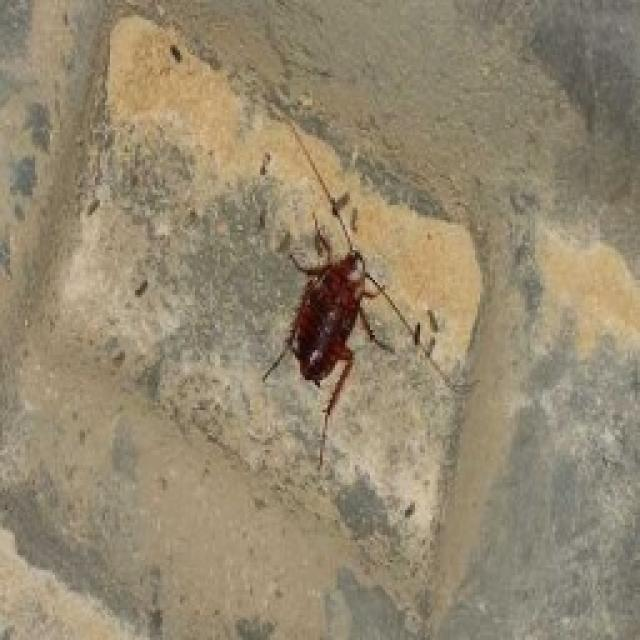cockroach: (252, 243, 398, 415)
